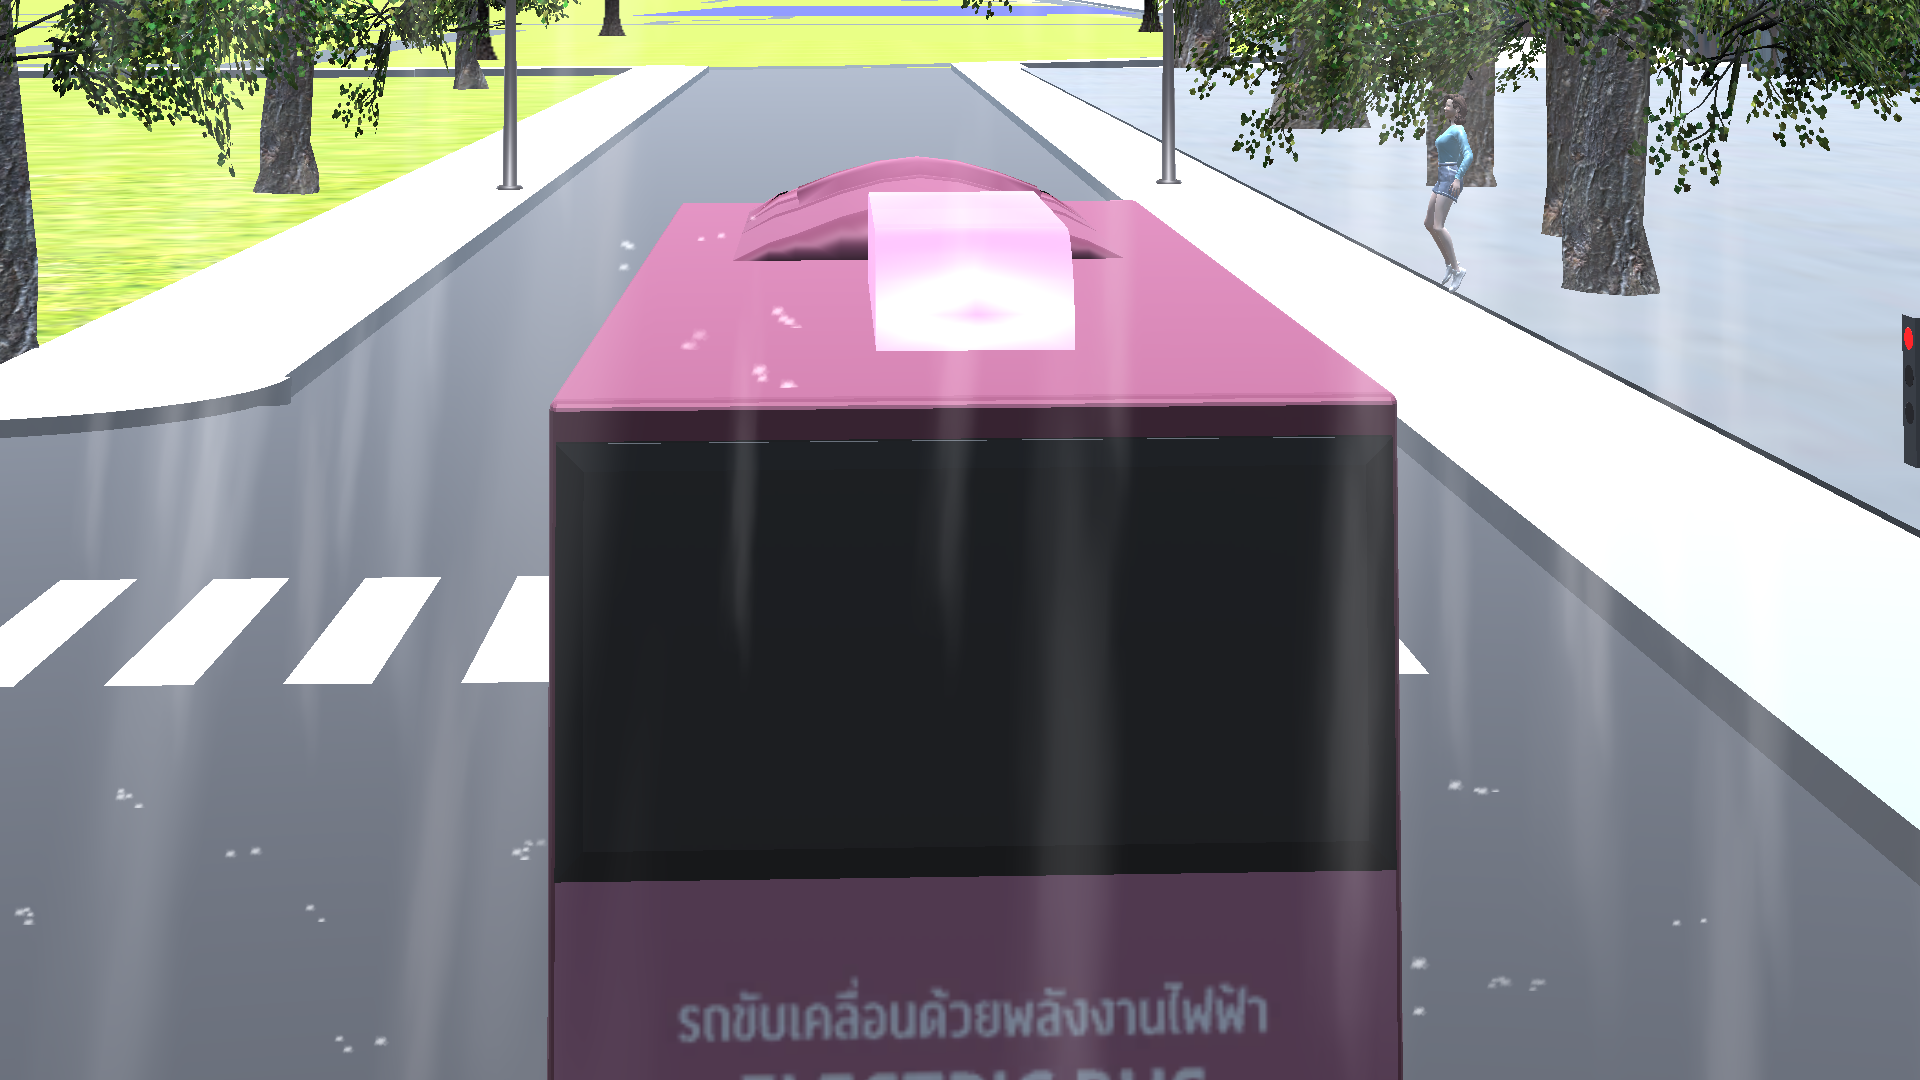pedestrian: (1415, 89, 1486, 296)
